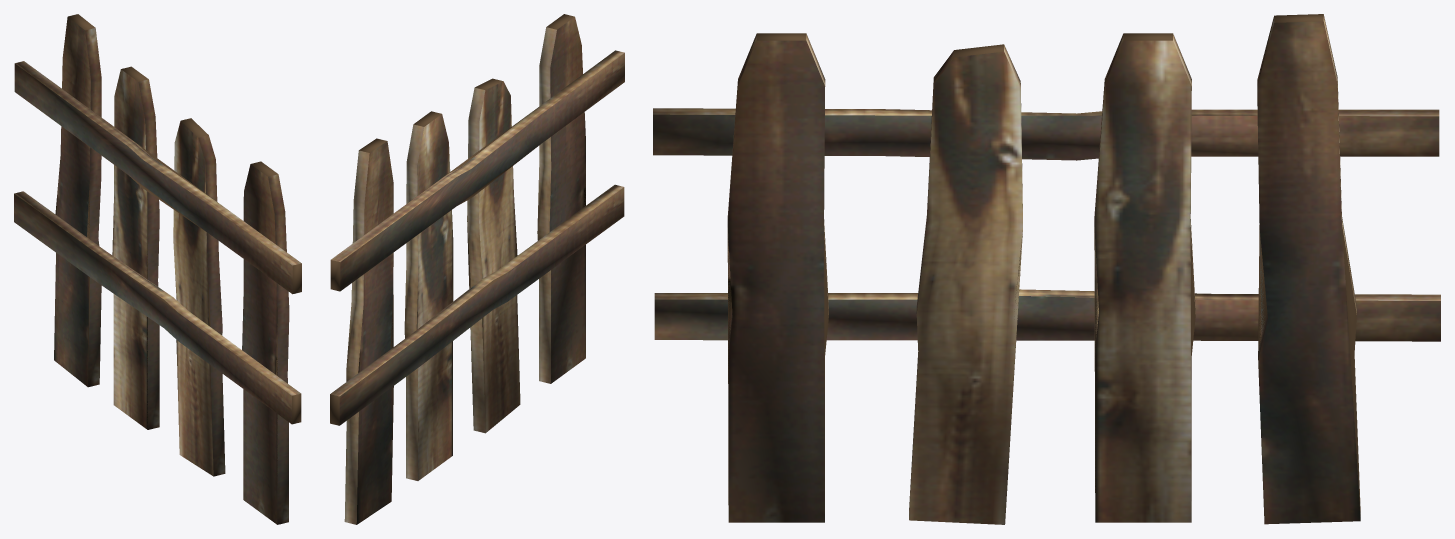
File: fence.obj
3 views of the same model, side by side, from view 1: azimuth 30°, elevation 25°; view 2: azimuth 150°, elevation 25°; view 3: azimuth 270°, elevation 25° (orthographic). The views are drawn at different scales.
Size of the model in its own units: 6.26 by 91.52 by 130.
1 material, 1 textured.
